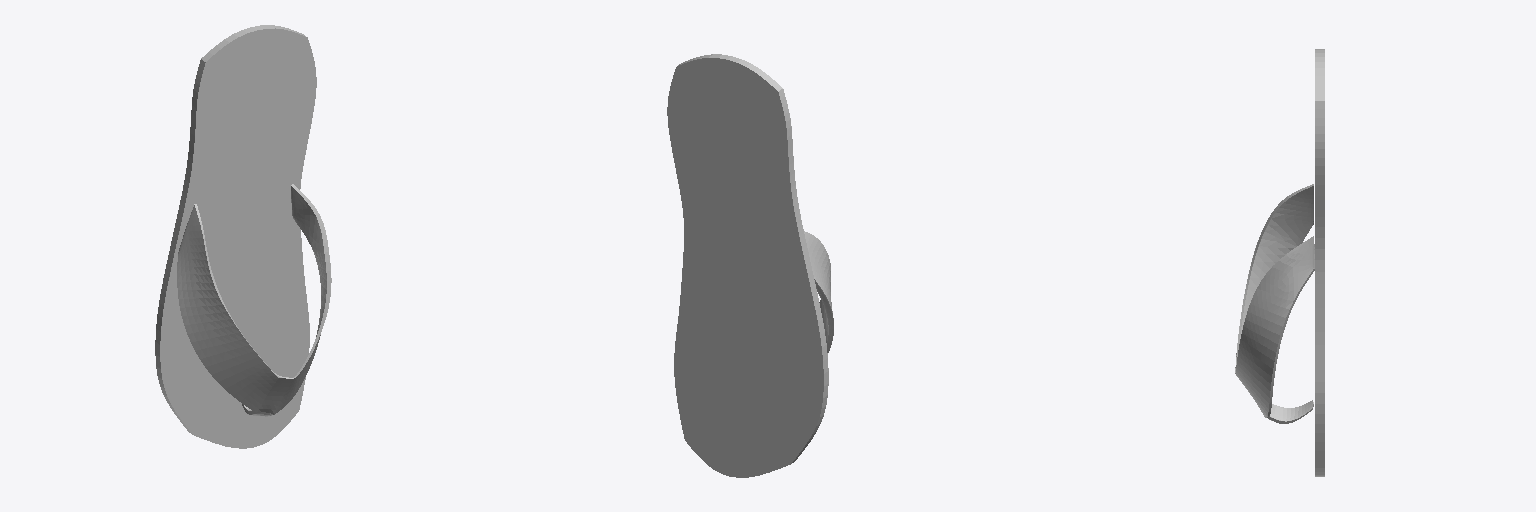
The model's file is 10151_MensSandal_LOD3.obj.
3 renders of one model, left to right at view 1: azimuth 30°, elevation 25°; view 2: azimuth 150°, elevation 25°; view 3: azimuth 270°, elevation 25°, orthographic.
Visible parts, largest first — view 1: 10151_MensSandal_LOD3; view 2: 10151_MensSandal_LOD3; view 3: 10151_MensSandal_LOD3.
Boxes of the visible parts, <box> form: 10151_MensSandal_LOD3: <box>155,25,331,448</box>; 10151_MensSandal_LOD3: <box>667,54,833,477</box>; 10151_MensSandal_LOD3: <box>1235,49,1324,476</box>.
Bounding box in the file's own units: 11.66 × 29.66 × 5.79.